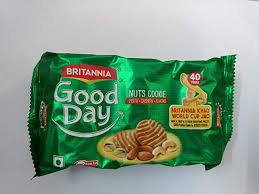gooday-medium: (41, 63, 233, 166)
